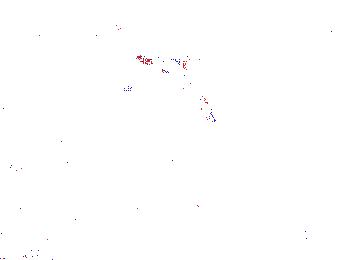glassfish: (168, 62, 224, 141)
red belly glassfish: (283, 119, 296, 141), (104, 22, 125, 33)
redtail glassfish: (134, 52, 188, 69)
siberian prawn: (32, 213, 111, 260)
